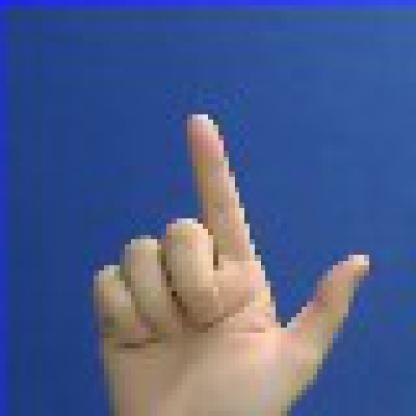seven: (52, 83, 385, 411)
